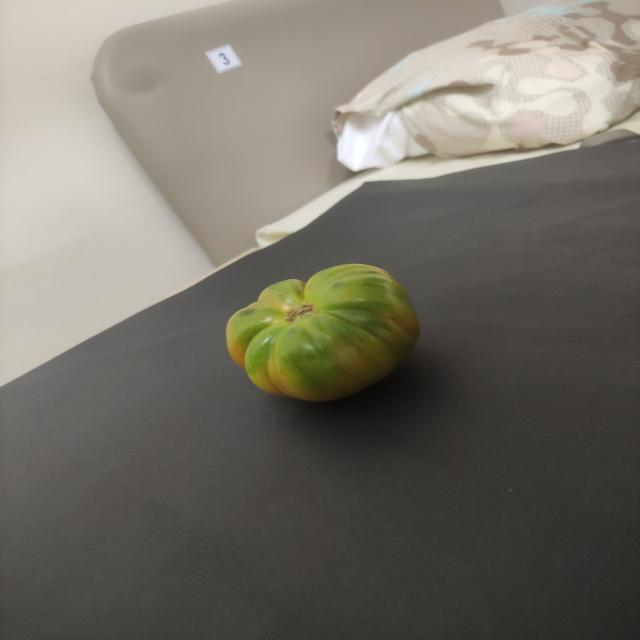yesil: (208, 254, 439, 398)
